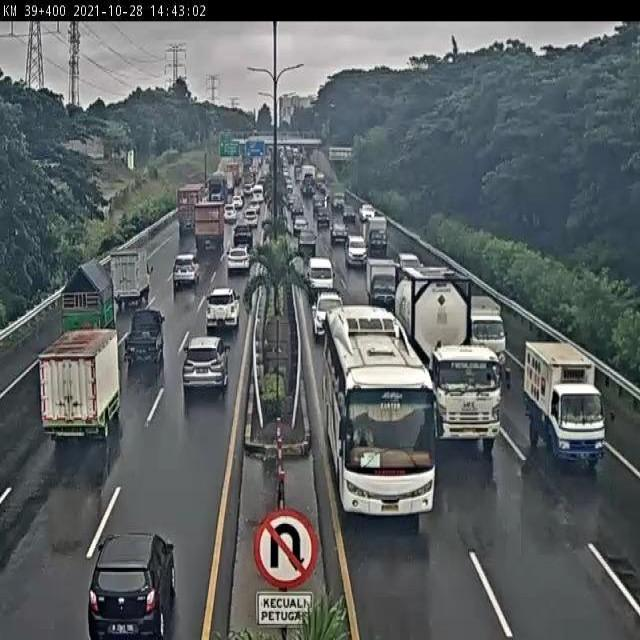big bus: (322, 303, 441, 520)
big truck: (395, 267, 504, 453), (196, 203, 225, 253)
car: (87, 532, 176, 640), (183, 335, 231, 396), (312, 294, 346, 342), (208, 281, 242, 320), (307, 262, 335, 302), (174, 253, 200, 287), (345, 236, 368, 271), (398, 251, 423, 281), (296, 231, 317, 257), (229, 240, 250, 265), (315, 207, 333, 236), (329, 222, 349, 246), (359, 203, 378, 228), (236, 219, 257, 240), (291, 219, 311, 240), (343, 206, 359, 226), (290, 198, 305, 218)
small truck: (525, 339, 606, 468), (37, 328, 125, 441), (63, 256, 118, 348), (465, 296, 506, 372), (107, 248, 152, 307), (124, 310, 167, 366), (366, 257, 400, 311), (367, 216, 390, 257)
